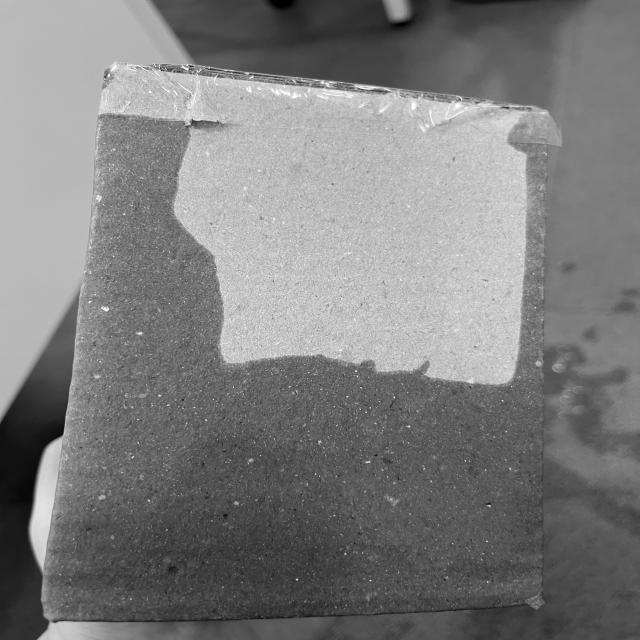wet: (54, 361, 560, 614), (50, 100, 233, 352), (499, 108, 559, 356)
